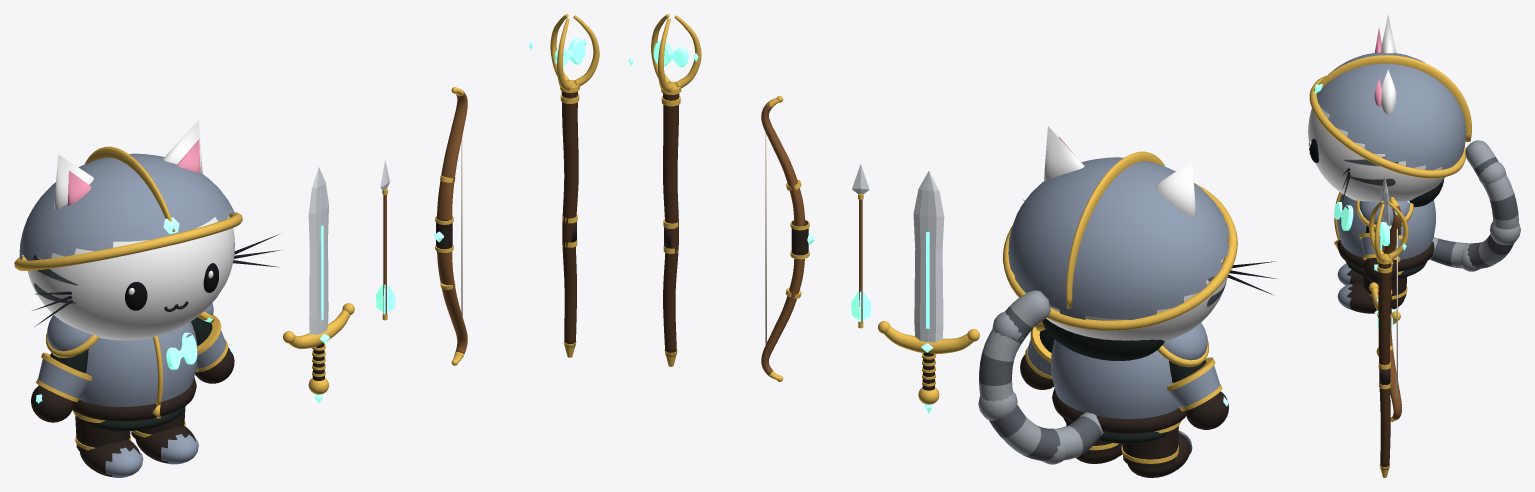
File: hypercat.glb
The picture shows the model from 3 angles, left to right: view 1: azimuth 30°, elevation 25°; view 2: azimuth 150°, elevation 25°; view 3: azimuth 270°, elevation 25°; orthographic projection. The views are drawn at different scales.
Visible parts, largest first — view 1: Armor.Helmet, Head, Armor.Chest, Staff, Sword, Bow, Armor.Glove.L, Armor.Boot.L, Armor.Boot.R, Armor.Glove.R, Arrow, Ear.L (+3 smaller); view 2: Armor.Helmet, Armor.Chest, Sword, Staff, Bow, Armor.Glove.L, Head, Tail.2, Hood, Tail.1, Armor.Boot.L, Armor.Glove.R (+7 smaller); view 3: Armor.Helmet, Head, Armor.Chest, Staff, Bow, Tail.2, Armor.Boot.R, Tail.1, Armor.Glove.R, Tail, Tail.3, Sword (+7 smaller).
Boxes of the visible parts, x1,y1,x2,y2 form: Armor.Helmet: [14, 146, 242, 270]; Head: [26, 216, 234, 340]; Armor.Chest: [45, 303, 214, 421]; Staff: [529, 14, 599, 357]; Sword: [283, 167, 354, 403]; Bow: [434, 87, 467, 365]; Armor.Glove.L: [31, 352, 92, 422]; Armor.Boot.L: [75, 429, 143, 477]; Armor.Boot.R: [131, 415, 198, 464]; Armor.Glove.R: [195, 314, 234, 383]; Arrow: [376, 160, 395, 320]; Ear.L: [54, 154, 93, 209]; Armor.Helmet: [1003, 151, 1237, 330]; Armor.Chest: [1035, 321, 1208, 433]; Sword: [878, 171, 979, 413]; Staff: [628, 14, 701, 366]; Bow: [761, 96, 815, 381]; Armor.Glove.L: [1167, 357, 1228, 429]; Head: [1046, 258, 1228, 341]; Tail.2: [979, 330, 1025, 420]; Hood: [1042, 318, 1164, 360]; Tail.1: [989, 404, 1060, 460]; Armor.Boot.L: [1121, 430, 1192, 477]; Armor.Glove.R: [1020, 326, 1053, 389]; Armor.Helmet: [1309, 52, 1471, 178]; Head: [1308, 106, 1445, 201]; Armor.Chest: [1334, 192, 1435, 271]; Staff: [1369, 200, 1408, 477]; Bow: [1377, 197, 1401, 421]; Tail.2: [1482, 174, 1518, 245]; Armor.Boot.R: [1337, 280, 1407, 313]; Tail.1: [1467, 234, 1514, 268]; Armor.Glove.R: [1359, 233, 1402, 284]; Tail: [1429, 237, 1471, 268]; Tail.3: [1465, 140, 1498, 178]; Sword: [1368, 176, 1400, 356].
Size of the model in its own units: 3.32 by 1.82 by 1.27.
19 materials, 1 textured.
